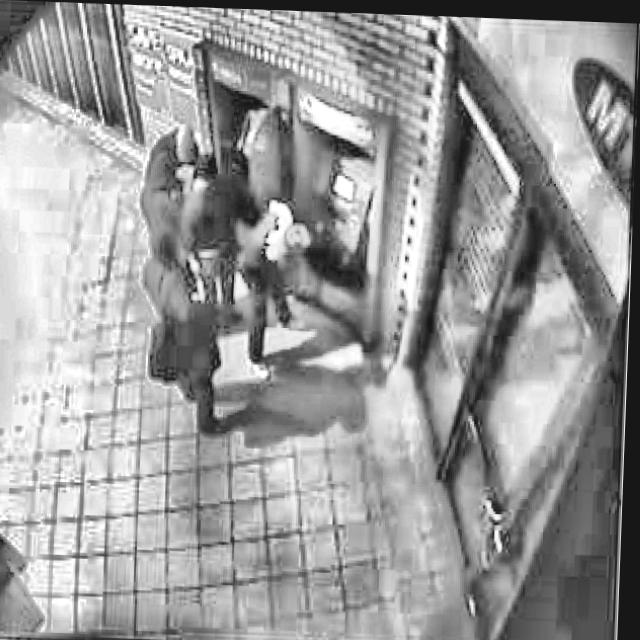burglary: (130, 87, 374, 443)
